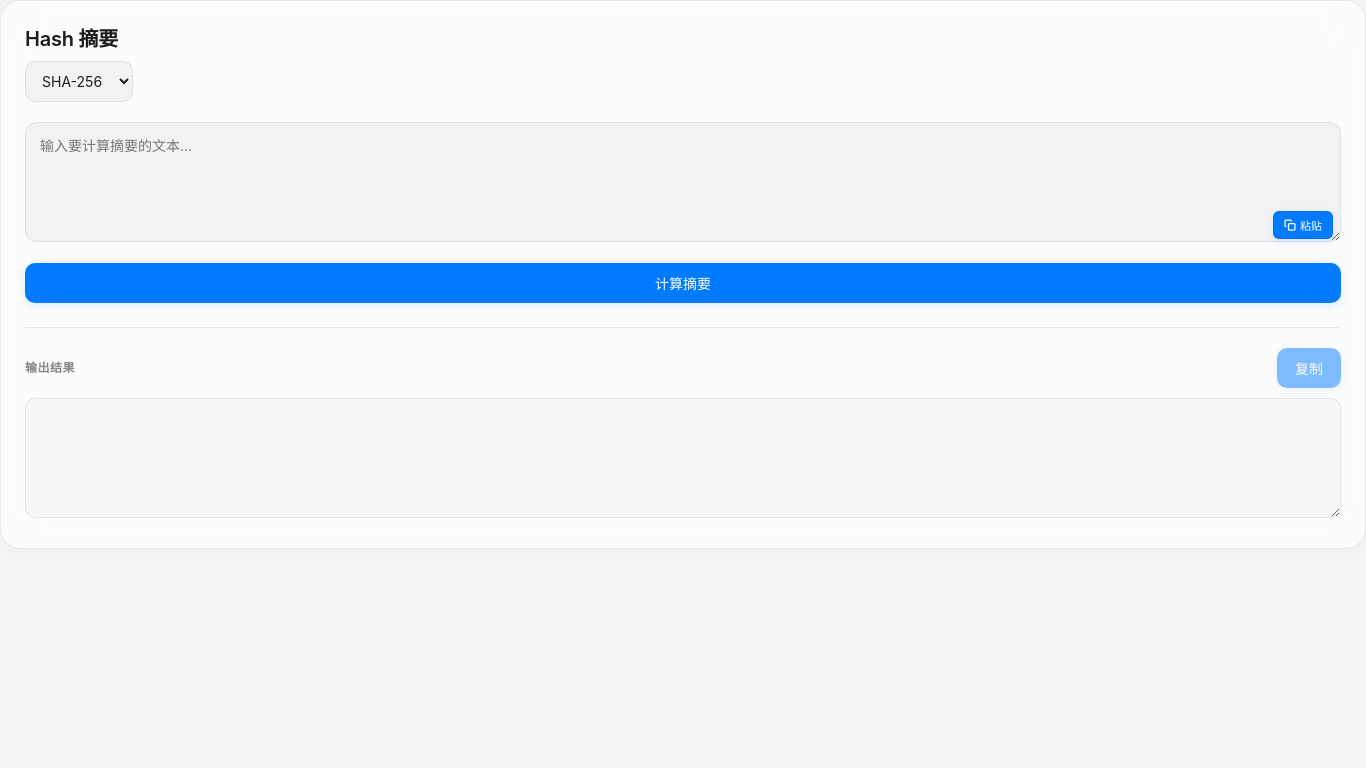
Test: displays digest failures and allows retry
Click the button "计算摘要". click: (683, 283)
box: [25, 263, 1341, 303]
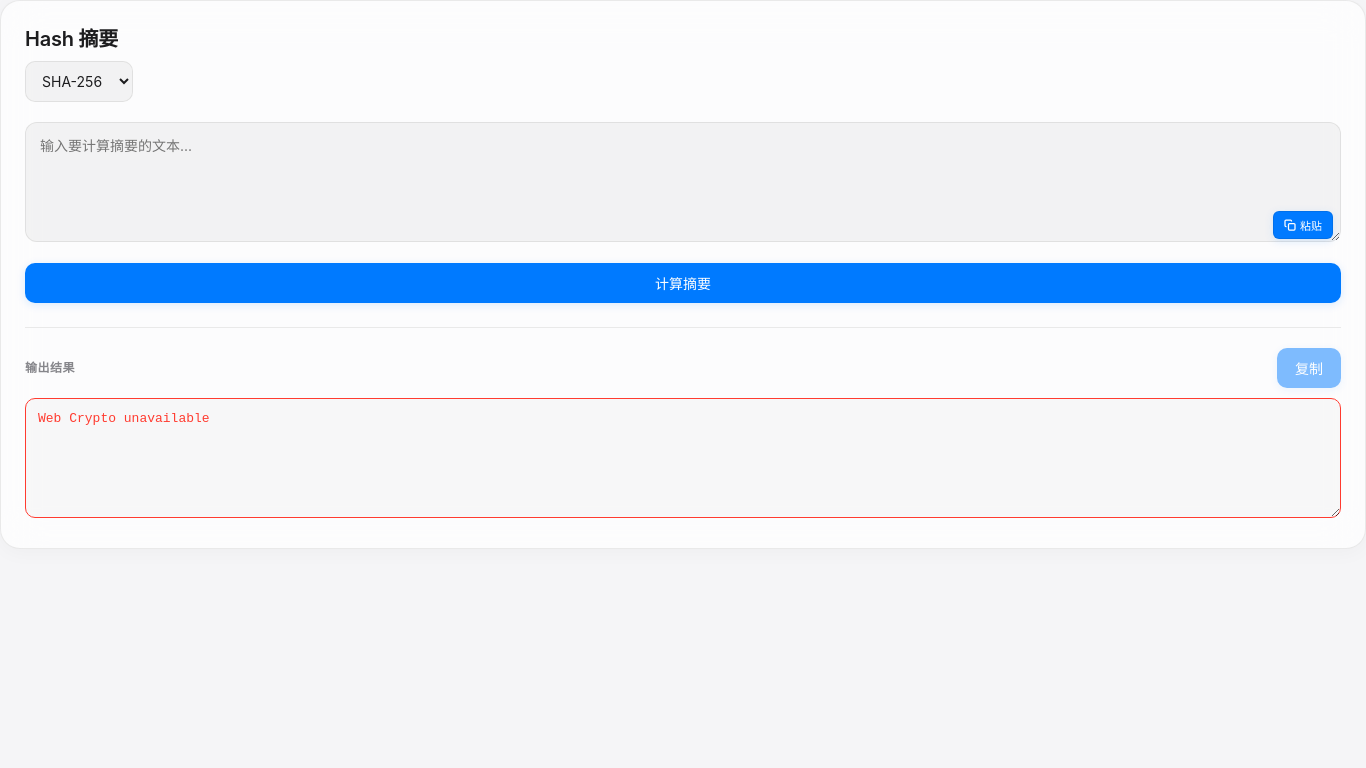
Expected: the text box showing "Web Crypto unavailable" is shown, [25, 398, 1341, 518]
Click the button "计算摘要". click: (683, 283)
box: [25, 263, 1341, 303]
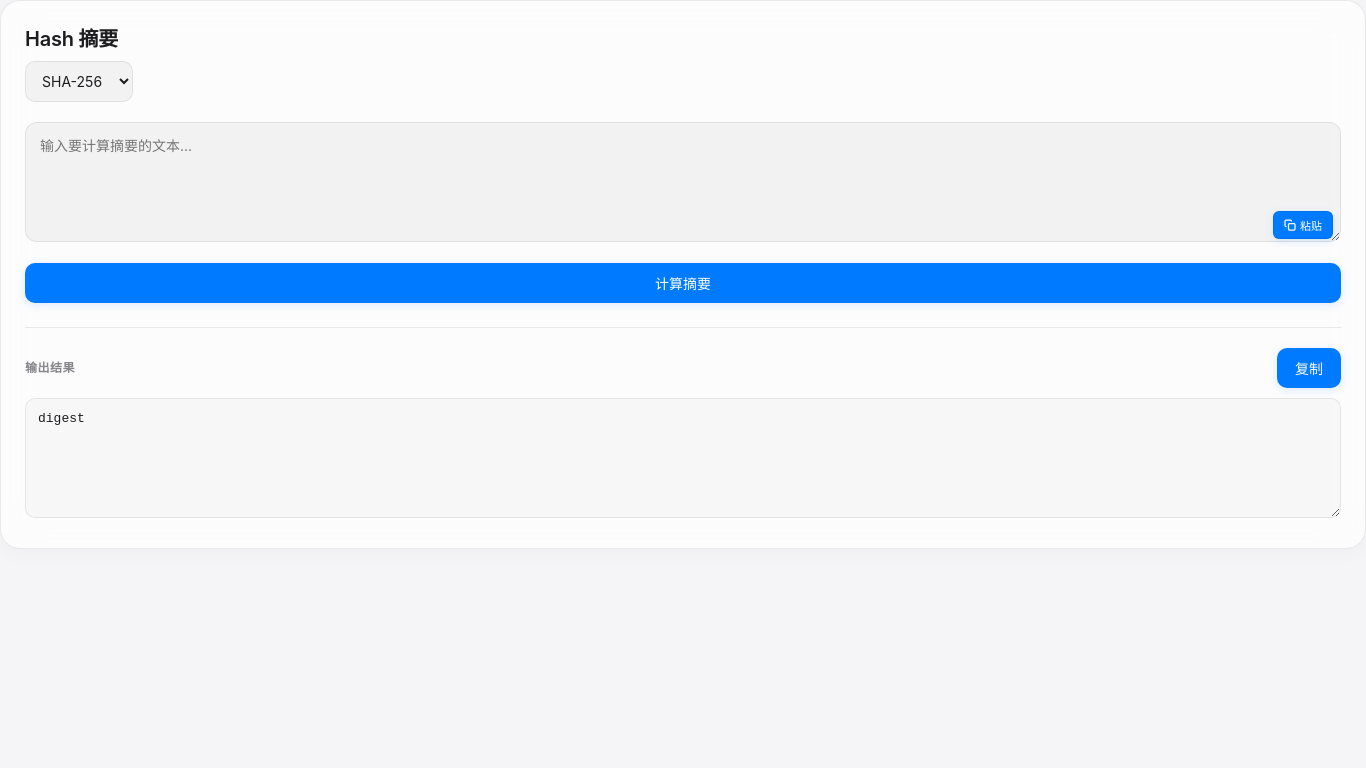
Expected: the text box showing "digest" is shown, [25, 398, 1341, 518]
